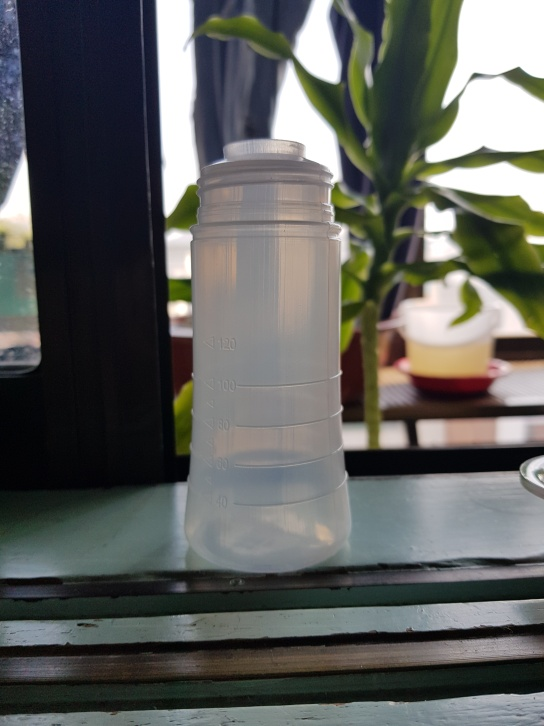Plastic: (182, 133, 357, 577)
